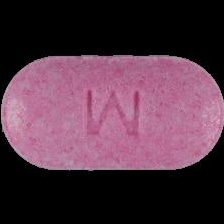54868-6097: (0, 0, 224, 224)
